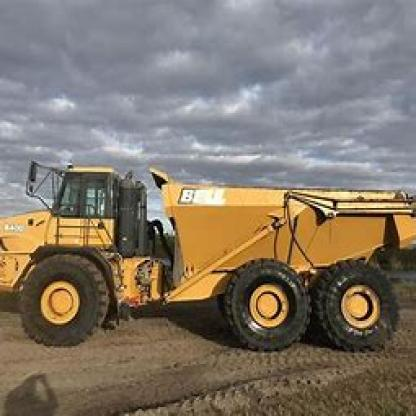dump_truck: (7, 151, 414, 374)
